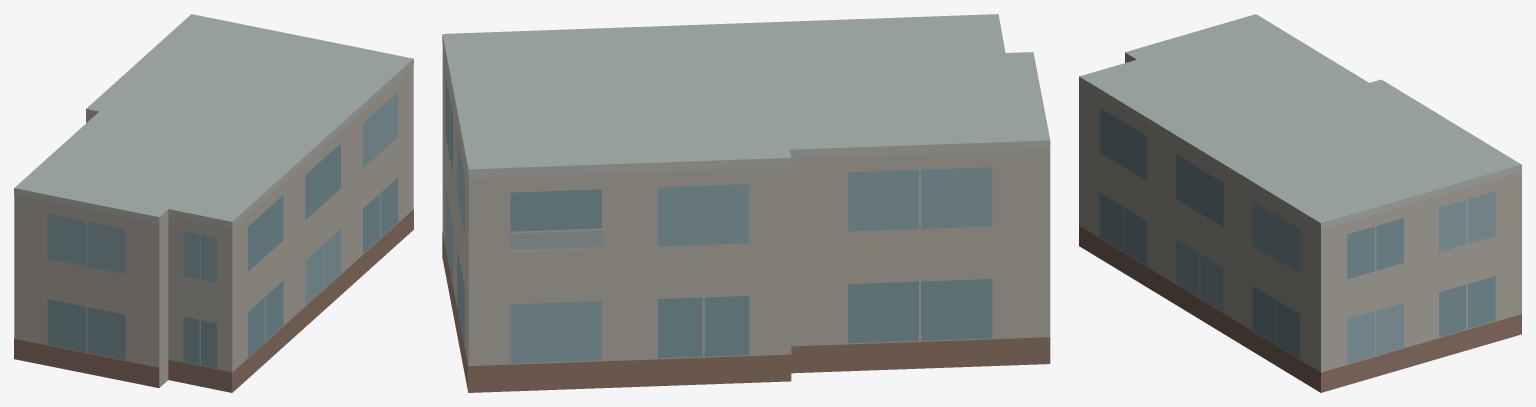
Rendered from survey-upis-32810705.glb.
The picture shows the model from 3 angles, left to right: view 1: azimuth 30°, elevation 25°; view 2: azimuth 150°, elevation 25°; view 3: azimuth 270°, elevation 25°; orthographic projection. The views are drawn at different scales.
Parts seen in each view (by area): view 1: survey-upis-32810705.tmp; view 2: survey-upis-32810705.tmp; view 3: survey-upis-32810705.tmp.
Boxes of the visible parts, left/top/right/bottom form: survey-upis-32810705.tmp: left=14, top=14, right=413, bottom=392; survey-upis-32810705.tmp: left=442, top=14, right=1050, bottom=392; survey-upis-32810705.tmp: left=1079, top=14, right=1521, bottom=392.
Bounding box in the file's own units: 16.15 × 6.1 × 14.44.
